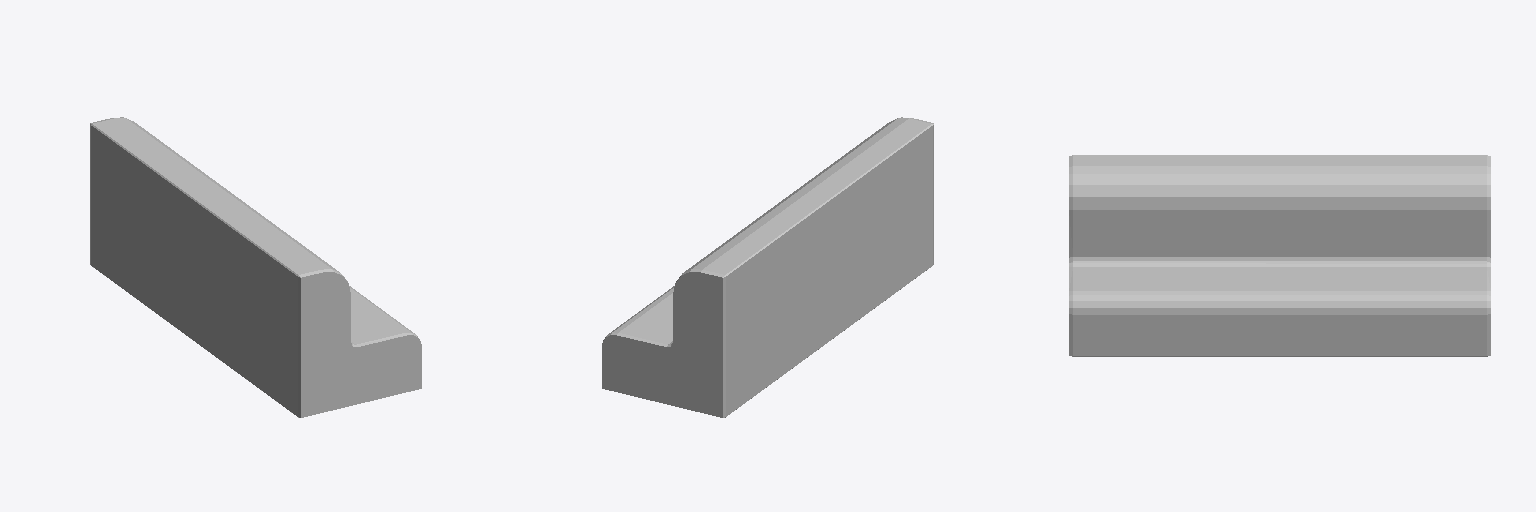
File: seat_3.obj
3 renders of one model, left to right at view 1: azimuth 30°, elevation 25°; view 2: azimuth 150°, elevation 25°; view 3: azimuth 270°, elevation 25°, orthographic.
Visible parts, largest first — view 1: Cadeira1.002_Cube.002; view 2: Cadeira1.002_Cube.002; view 3: Cadeira1.002_Cube.002.
Boxes of the visible parts, <box> form: Cadeira1.002_Cube.002: <box>90,117,421,417</box>; Cadeira1.002_Cube.002: <box>602,117,933,417</box>; Cadeira1.002_Cube.002: <box>1069,155,1490,356</box>.
Bounding box in the file's own units: 1.09 × 1.2 × 3.23.